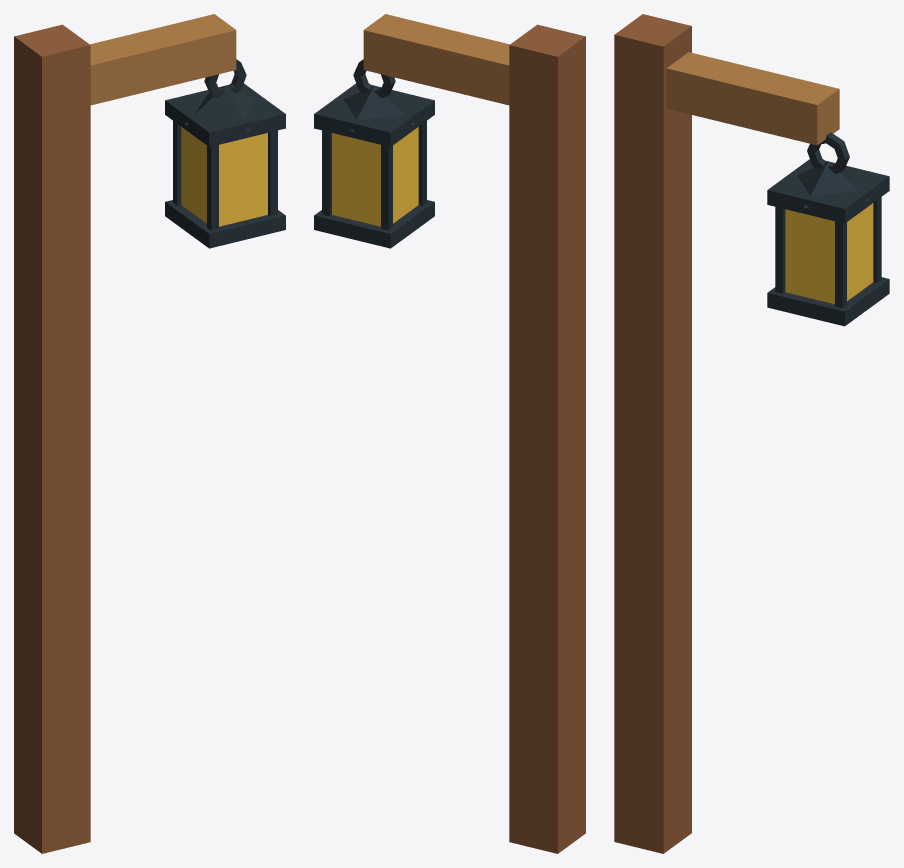
The model's file is main_fishing_deck__lamp.glb.
3 views of the same model, side by side, from view 1: azimuth 30°, elevation 25°; view 2: azimuth 150°, elevation 25°; view 3: azimuth 330°, elevation 25° (orthographic).
Parts seen in each view (by area): view 1: lamp__wood.003, lamp__dark.003, lamp__wood2.003, lamp__yellow2.003; view 2: lamp__wood.003, lamp__dark.003, lamp__wood2.003, lamp__yellow2.003; view 3: lamp__wood.003, lamp__dark.003, lamp__wood2.003, lamp__yellow2.003.
Boxes of the visible parts, x1,y1,x2,y2 form: lamp__wood.003: (14,24,90,853); lamp__dark.003: (165,59,285,248); lamp__wood2.003: (90,14,236,105); lamp__yellow2.003: (181,127,267,226); lamp__wood.003: (509,24,585,853); lamp__dark.003: (314,59,434,248); lamp__wood2.003: (363,14,509,105); lamp__yellow2.003: (332,127,418,226); lamp__wood.003: (614,14,691,853); lamp__dark.003: (767,132,889,326); lamp__wood2.003: (666,52,839,145); lamp__yellow2.003: (785,203,873,304).
Bounding box in the file's own units: 0.689 × 2.2 × 0.238.
